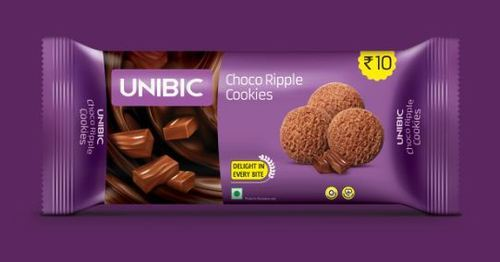VEG: (231, 188, 243, 200)
